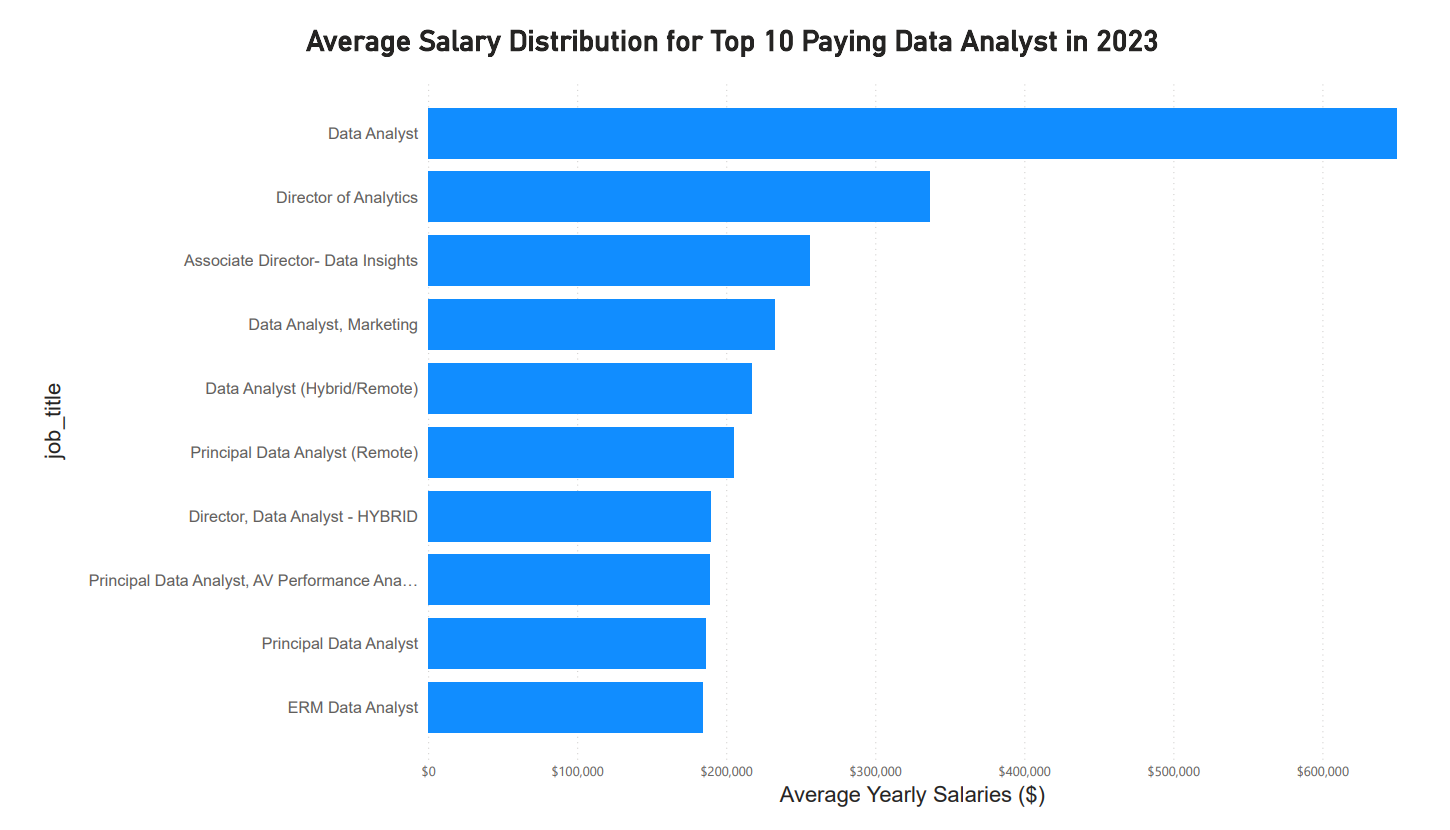

Layout of this report page (visuals, bound fields, positions):
{"tool":"powerbi","page":{"name":"Page 1","canvas":[1280,720],"ordinal":0},"visuals":[{"type":"clusteredBarChart","title":"Average Salary Distribution for Top 10 Paying  Data Analyst in 2023","fields":{"Category":["1.job_title"],"Y":["Sum(1.salary_year_avg)","Sum(1.salary_year_avg)"]},"box":[10,0,1270,720],"z":0}]}

Visuals, with their boxes in screenshot pixels (x1, y1, x2, y2), scaled from the page's 1280x720 canvas onto the 1450x830 screenshot:
"Average Salary Distribution for Top 10 Paying  Data Analyst in 2023" clusteredBarChart: [x1=11, y1=0, x2=1449, y2=829]
